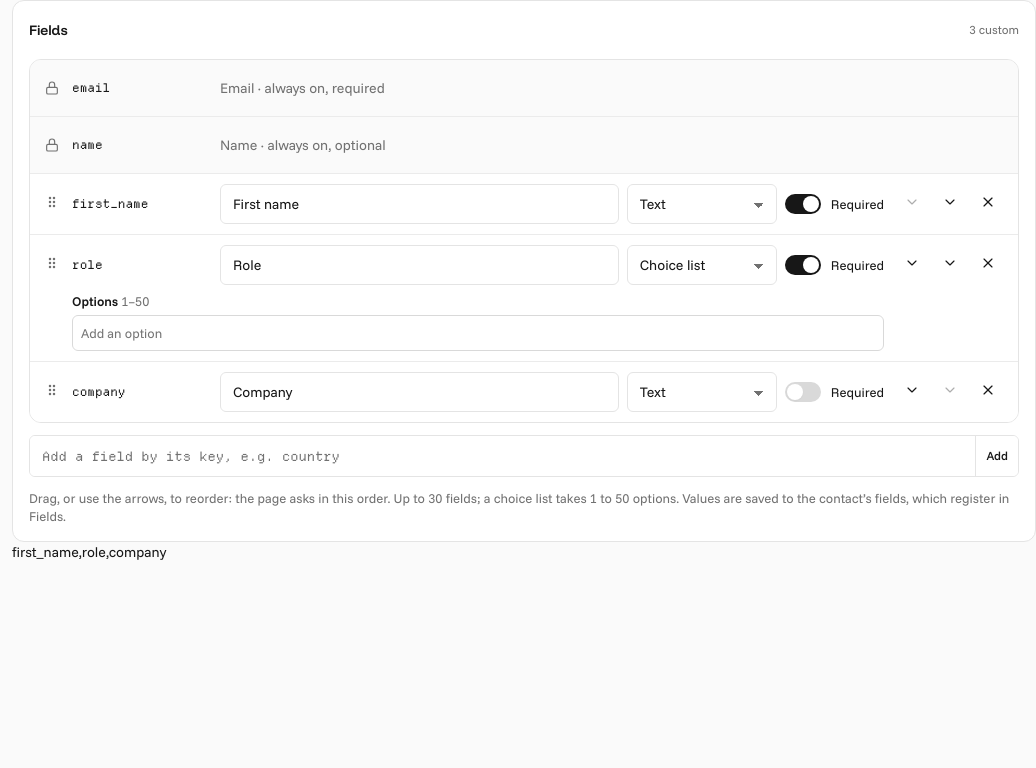
it: FieldsSection › moves rows with the arrows, which stop at the ends
Expected: the button named "Move first_name up" is disabled, [894, 184, 930, 220]
Click the button named "Move first_name down" at (950,202), box [932, 184, 968, 220]
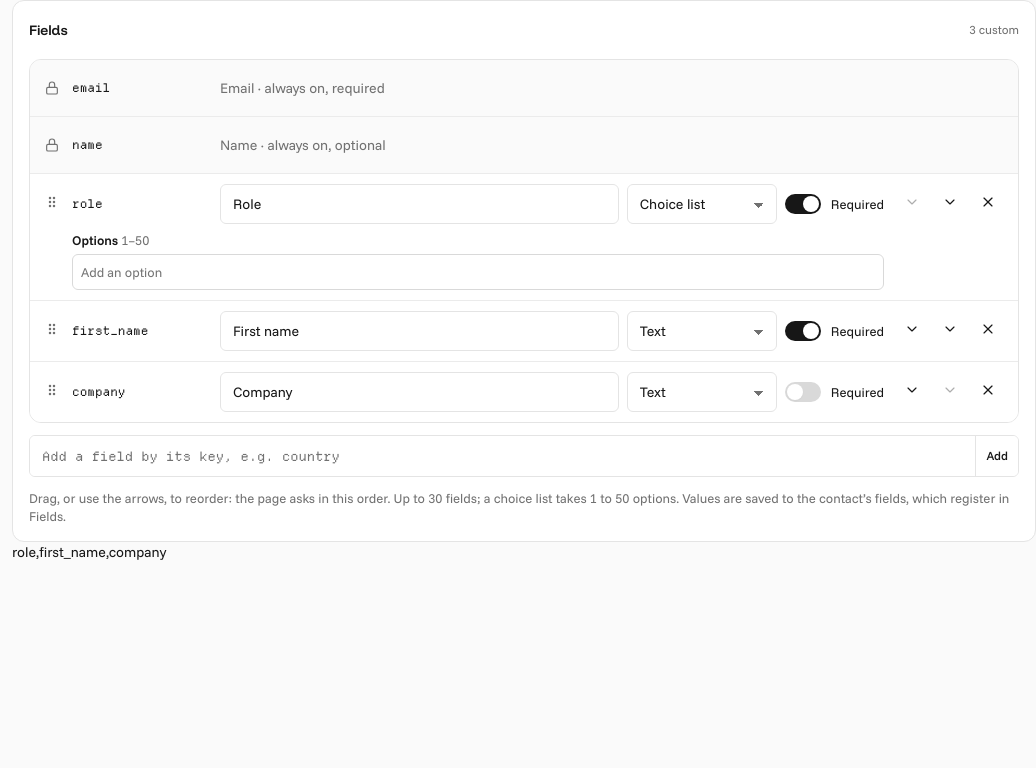
Now the text with test id "order" reads "role,first_name,company", box [12, 543, 166, 561]
Click the button named "Move company up" at (912,390), box [894, 372, 930, 408]
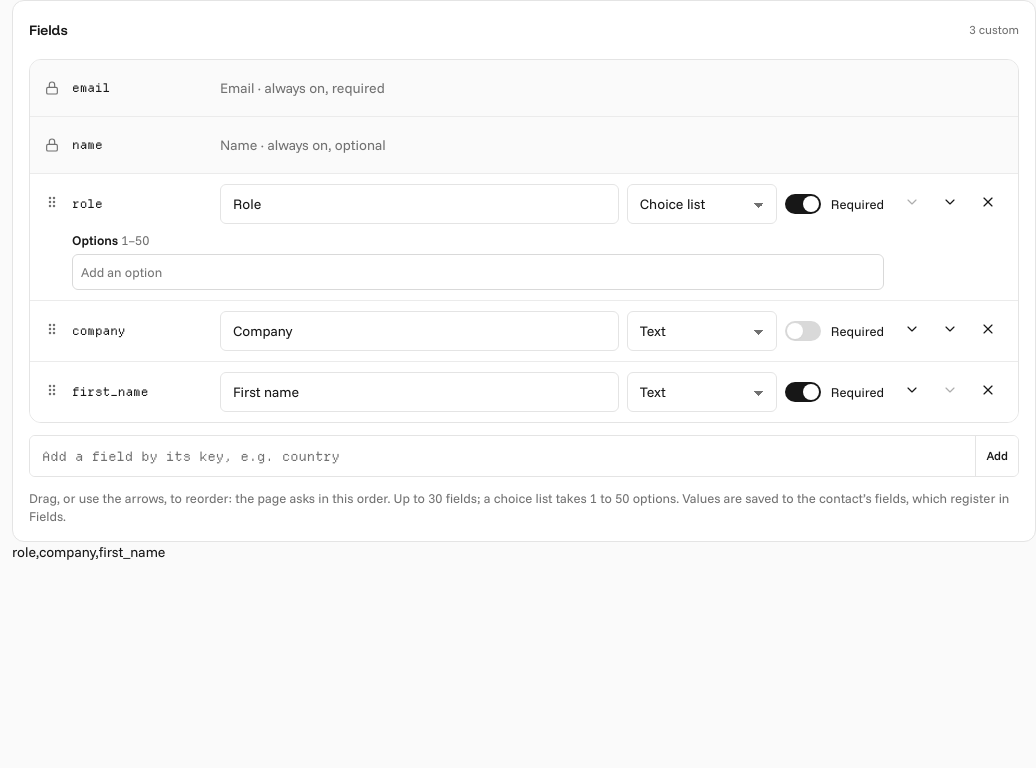
Now the text with test id "order" reads "role,company,first_name", box [12, 543, 166, 561]
